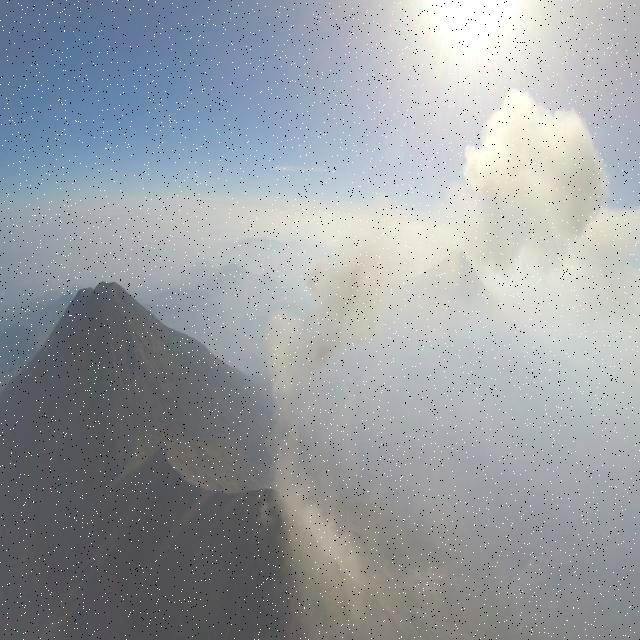Plume: (462, 81, 616, 280), (262, 225, 390, 388)
Summit: (240, 471, 300, 526)
